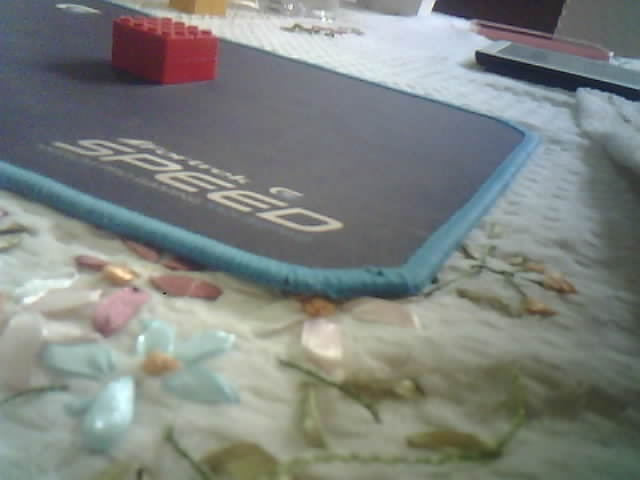lego: (111, 13, 220, 86)
